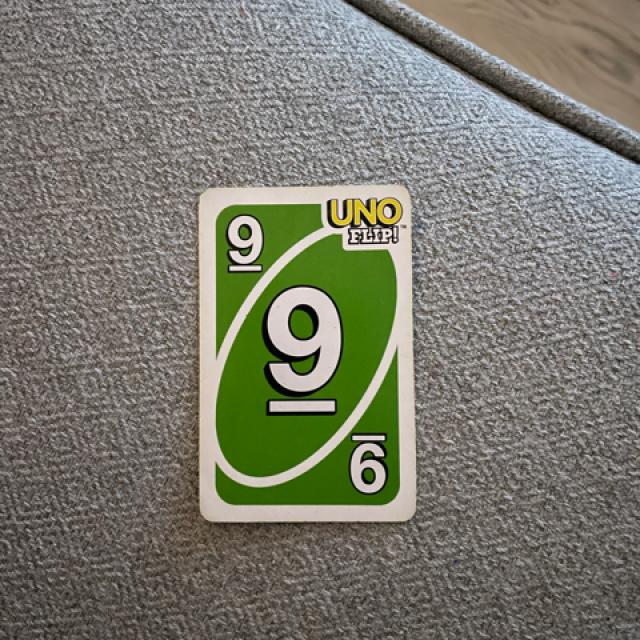lgreen-9: (211, 201, 277, 278)
